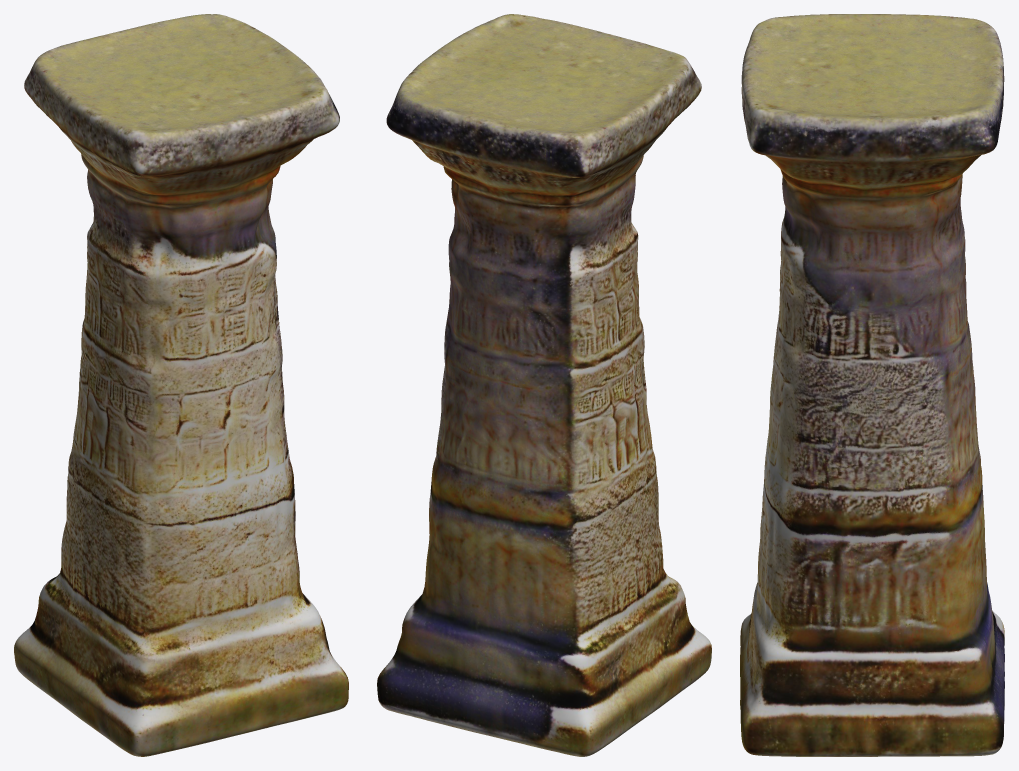
Rendered from 9a57210888db_An_egyptian_temple_.fbx.
The picture shows the model from 3 angles, left to right: view 1: azimuth 30°, elevation 25°; view 2: azimuth 150°, elevation 25°; view 3: azimuth 270°, elevation 25°; orthographic projection. The views are drawn at different scales.
Parts seen in each view (by area): view 1: high_poly; view 2: high_poly; view 3: high_poly.
Part boxes in pixels (left/top/right/bottom): high_poly: left=14, top=14, right=348, bottom=756; high_poly: left=377, top=14, right=711, bottom=756; high_poly: left=740, top=14, right=1004, bottom=756.
Size of the model in its own units: 37.75 by 100 by 37.56.
